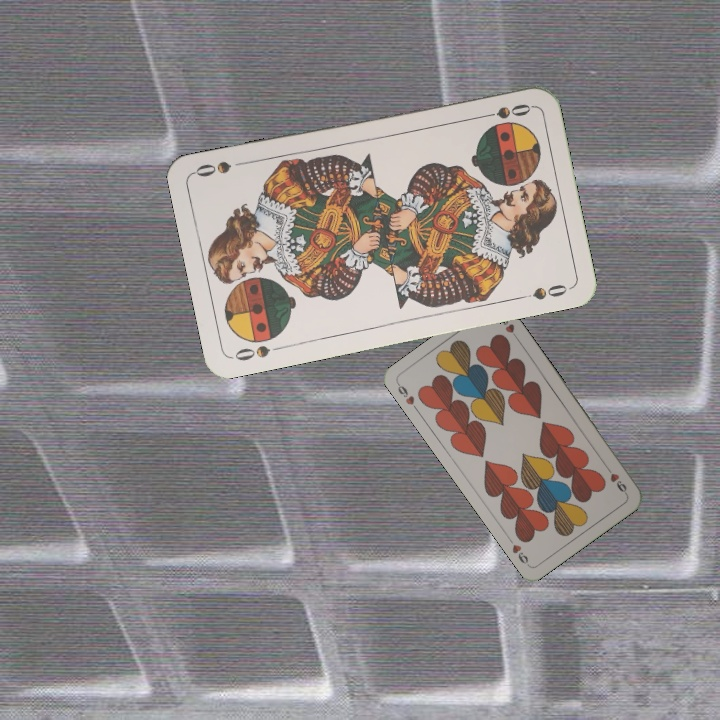H9: (393, 379, 421, 415), (602, 462, 630, 497)
SO: (475, 99, 534, 122), (228, 341, 287, 364)
